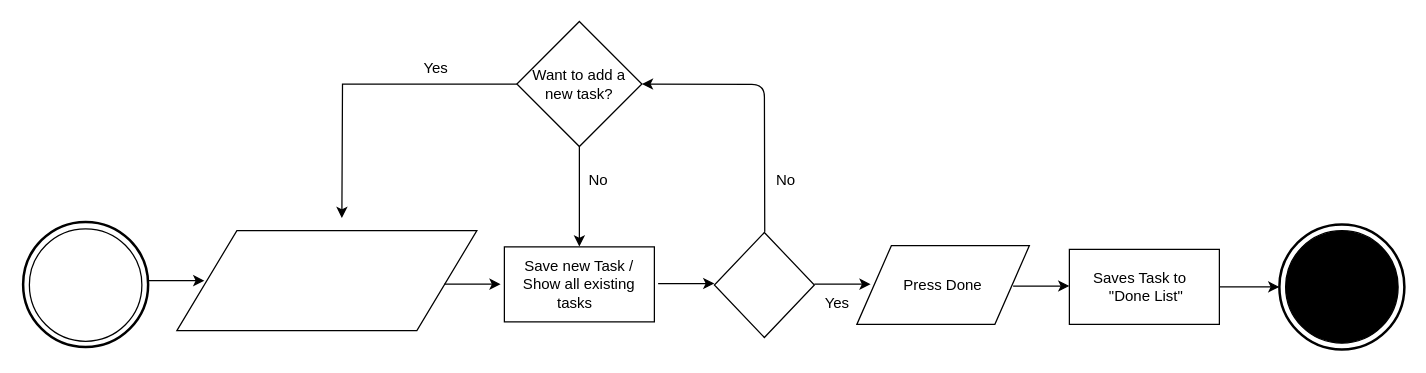
Some shapes in this 1426 by 373 pixel diagram are drawn without their labels. Here are the shapes that lost their labels. From the top down, the box of each, then its label:
(176, 229, 477, 331): Add new Task to your ToDo-List and press Submit
(713, 231, 814, 338): Done with your Task?
